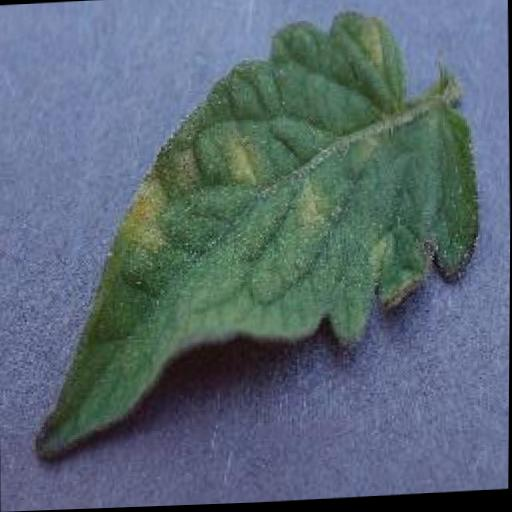Leaf Mold: (27, 4, 484, 455)
